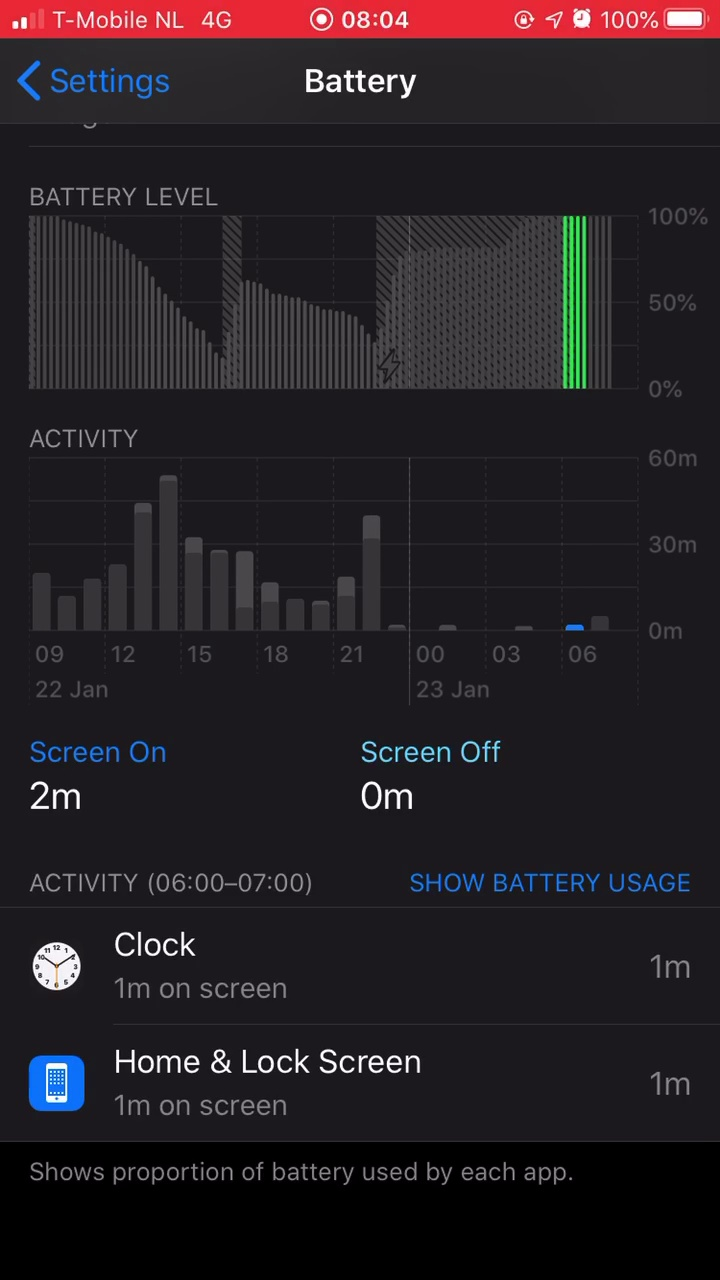activity: (14, 850, 334, 910)
app: (14, 916, 704, 1013), (18, 1028, 708, 1125)
